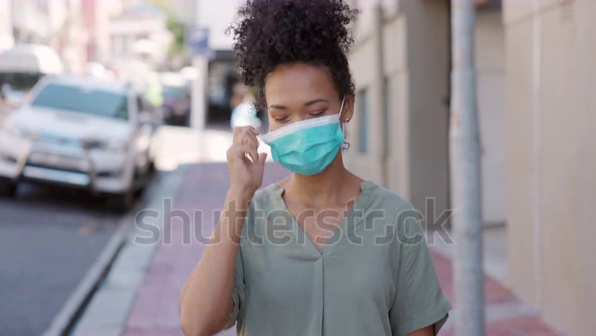Mask: (242, 116, 355, 179)
